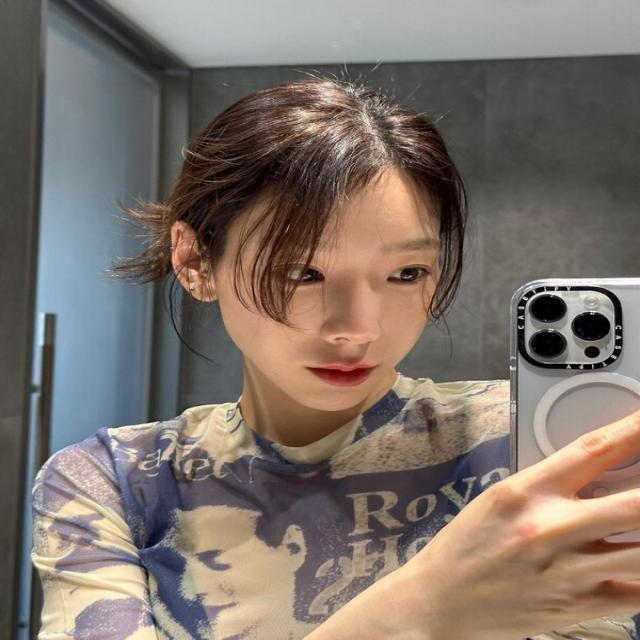mobile: (514, 278, 640, 573)
